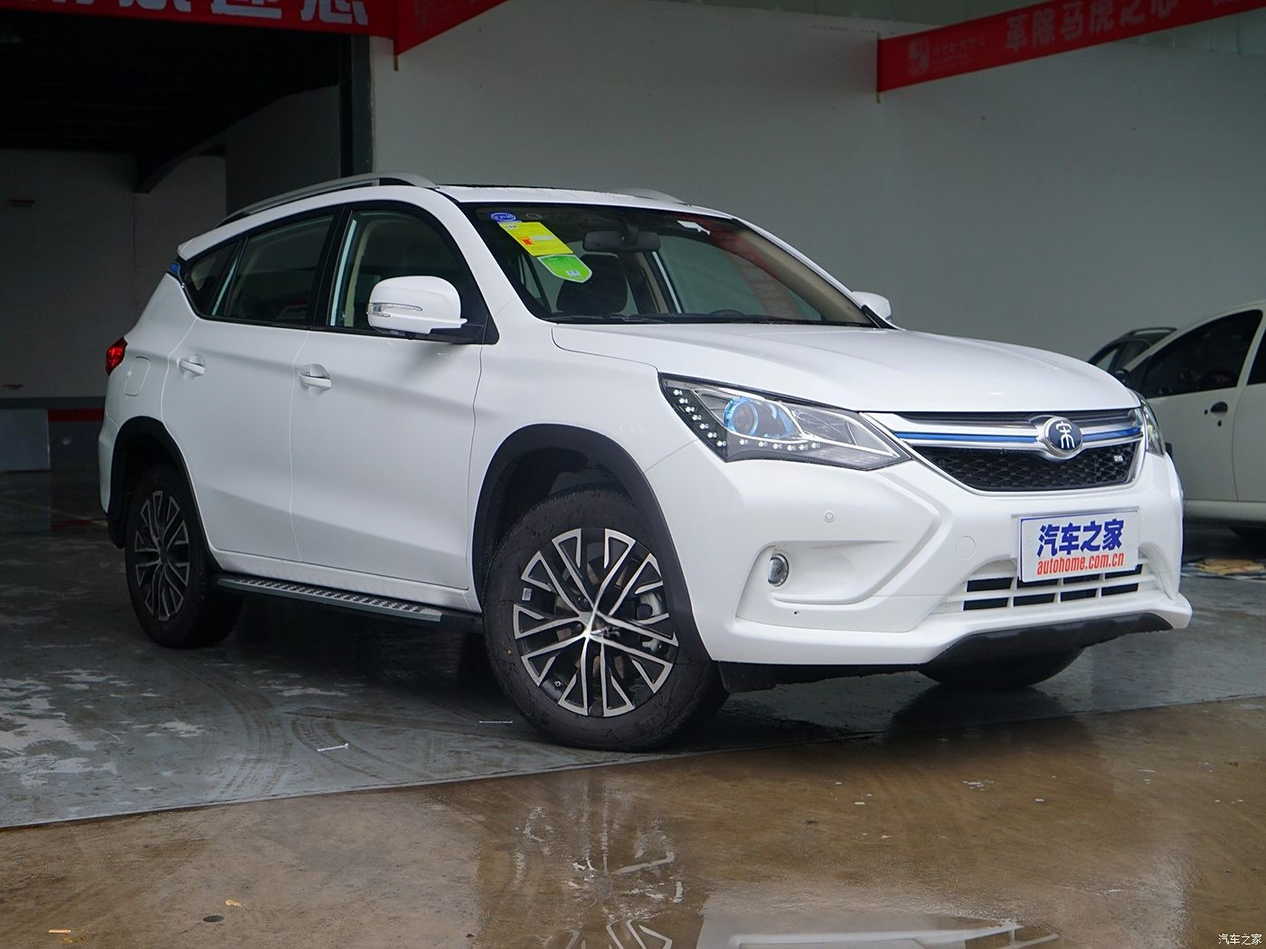BYD Song: (1046, 419, 1082, 452)
